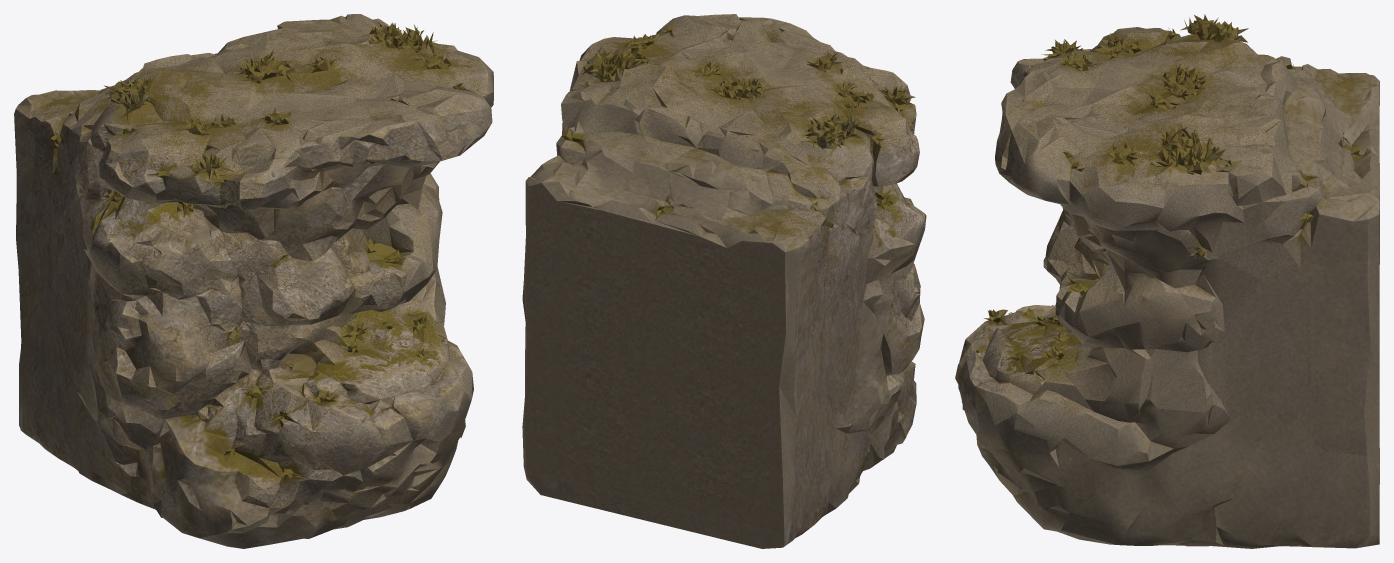
The model's file is pared_saliente.glb.
3 views of the same model, side by side, from view 1: azimuth 30°, elevation 25°; view 2: azimuth 150°, elevation 25°; view 3: azimuth 270°, elevation 25° (orthographic). The views are drawn at different scales.
Size of the model in its own units: 1.77 by 1.87 by 1.72.
Materials: 1 (1 with a texture image).
